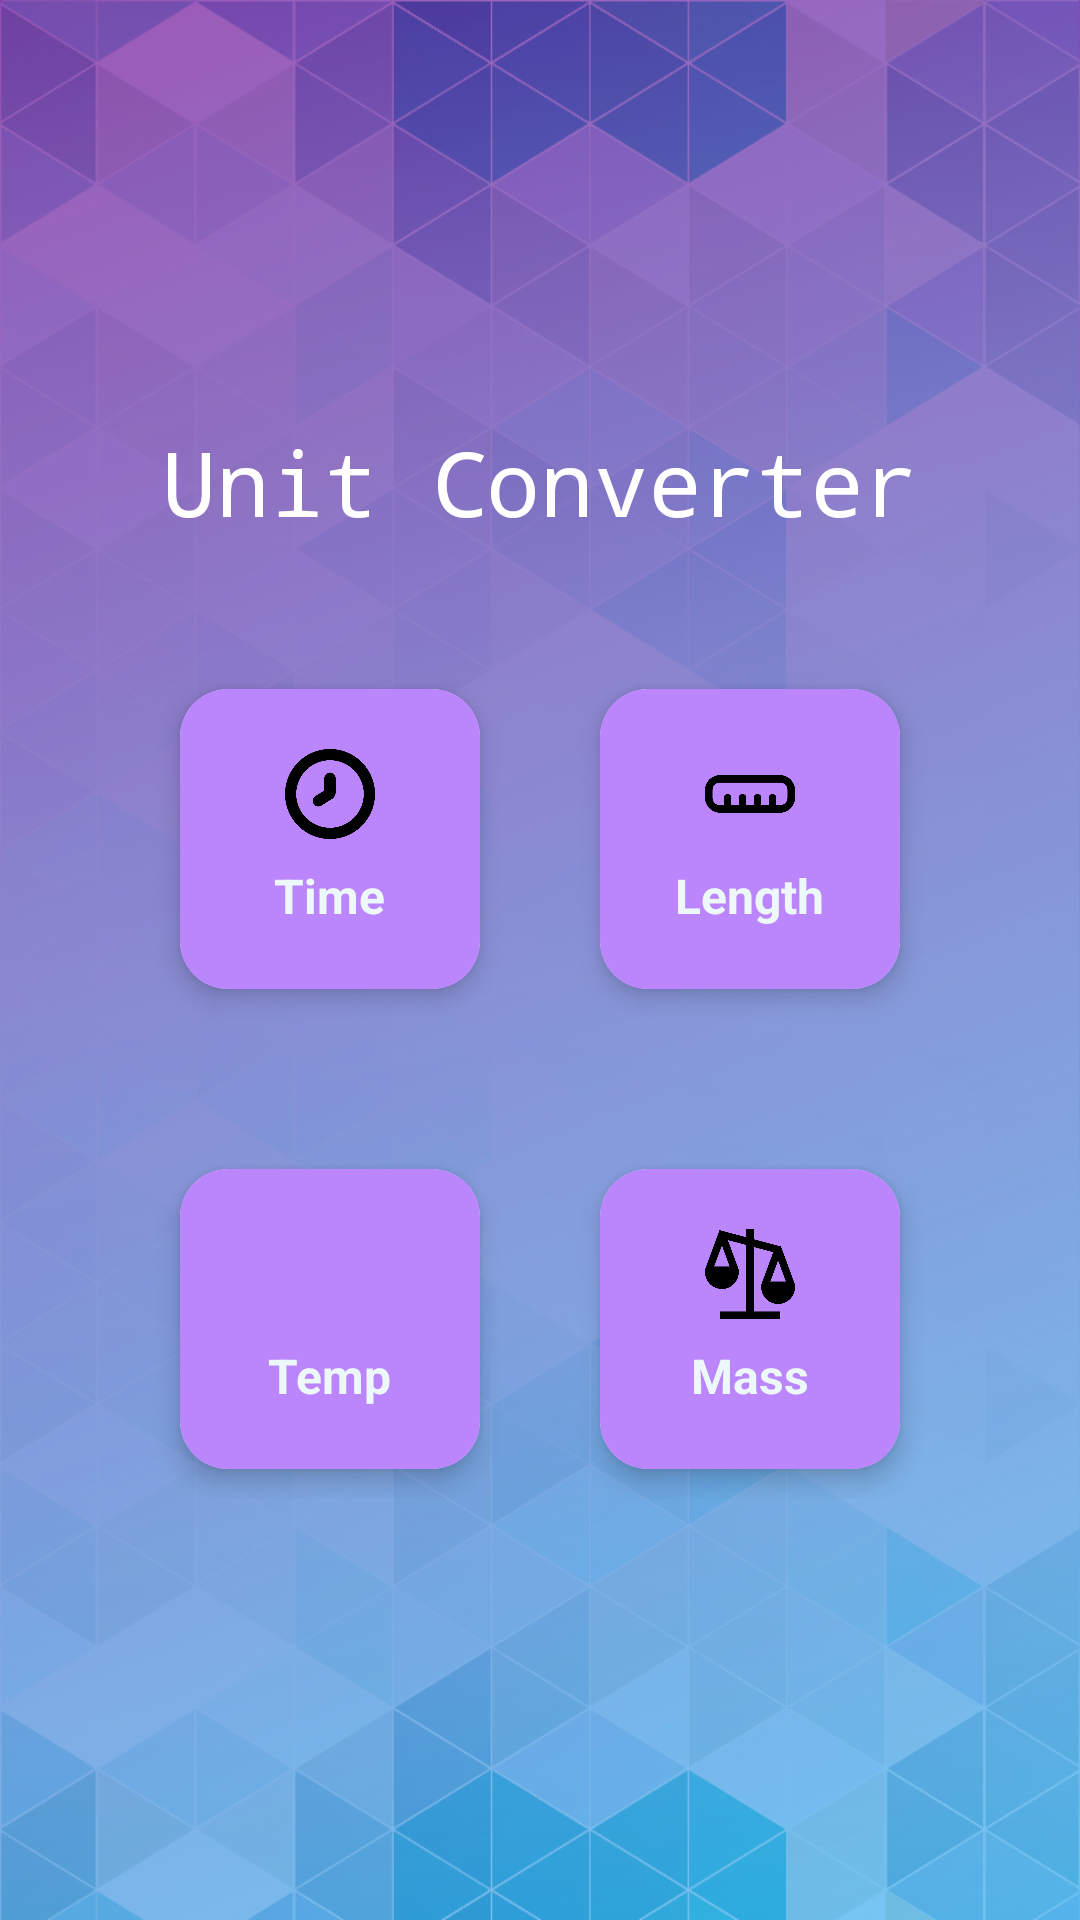

Screen size 1080px×1920px. Icon name, then its center in pixels as [x,y]:
balance scale right: [750,1274]
clock: [330,794]
ruler horizontal: [750,794]
